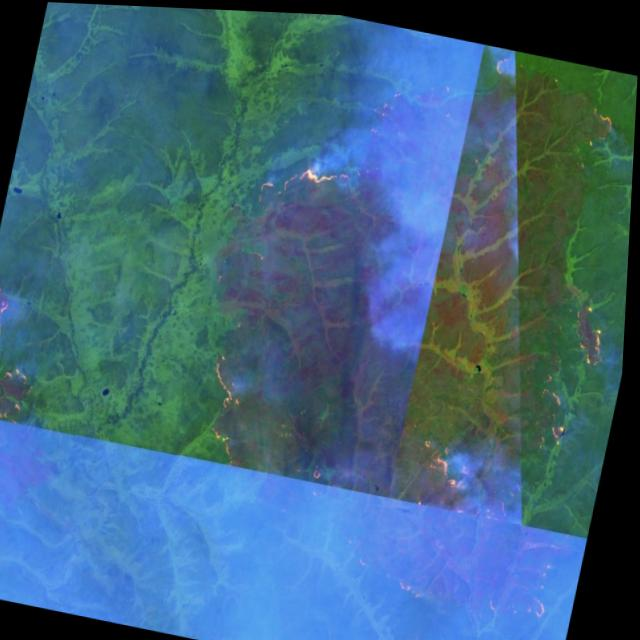fire: (340, 529, 479, 613), (249, 144, 366, 226), (193, 337, 256, 461), (406, 424, 485, 493), (0, 345, 52, 432), (525, 538, 567, 625), (579, 92, 624, 148), (0, 267, 20, 350)
